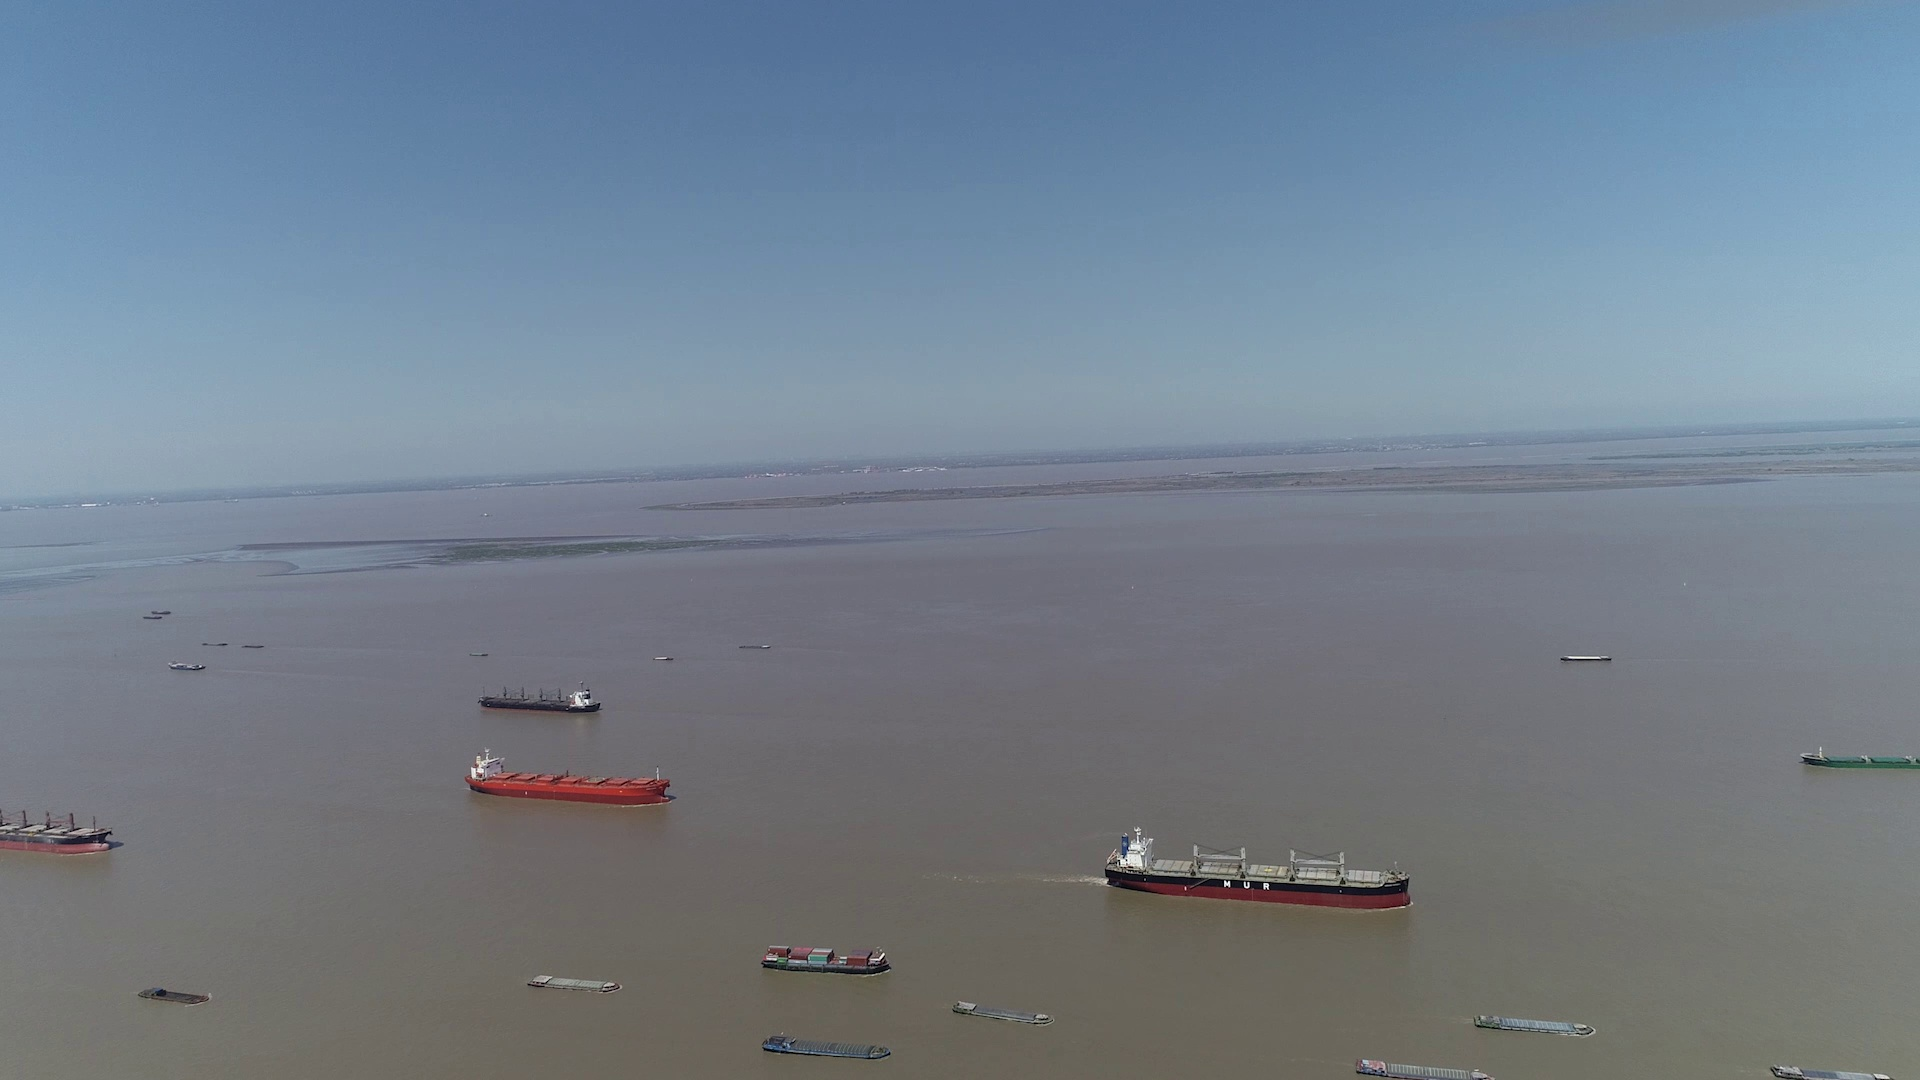ship: (1102, 828, 1415, 910), (464, 746, 669, 804), (0, 793, 113, 856), (761, 943, 889, 976), (1361, 1046, 1509, 1073), (479, 680, 600, 713), (761, 1033, 897, 1060), (1356, 1056, 1491, 1080), (1473, 1011, 1593, 1036), (1800, 746, 1920, 770), (951, 1000, 1052, 1025), (1772, 1063, 1892, 1080), (527, 973, 620, 994), (138, 986, 210, 1004), (167, 661, 208, 671), (1560, 654, 1611, 662)
